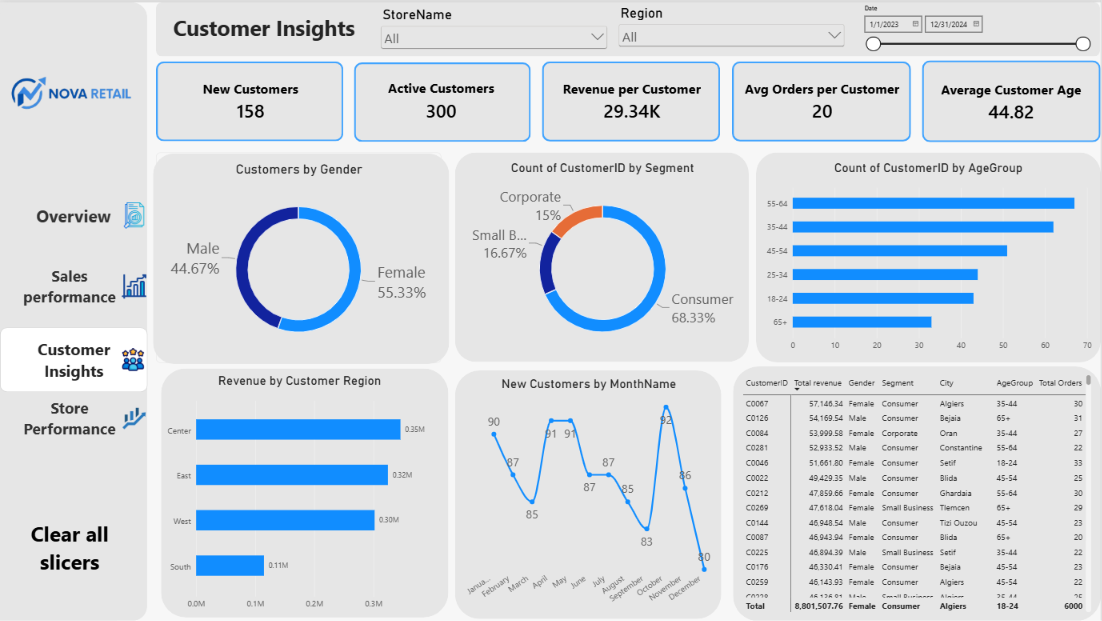

What the dashboard file says about the page in this screenshot:
{"tool":"powerbi","page":{"name":"Customer Insights","canvas":[1920,1080],"ordinal":2},"visuals":[{"type":"shape","box":[0,0,204.5,1079],"z":0,"group":"g1"},{"type":"group","id":"g1","title":"Group 3","box":[0,0,256.7,1081],"z":0},{"type":"shape","box":[1608.4,101.4,311.5,142.7],"z":0,"group":"g6"},{"type":"shape","box":[272.1,102.9,326.7,139.3],"z":0,"group":"g4"},{"type":"shape","box":[945.8,103.1,310.6,139.6],"z":0,"group":"g5"},{"type":"shape","box":[1277.1,103.1,312.2,139.6],"z":0,"group":"g3"},{"type":"shape","box":[617.8,103.8,308.4,138.6],"z":0,"group":"g7"},{"type":"shape","box":[794.2,262.2,512.5,365.7],"z":0,"group":"g8"},{"type":"shape","box":[1318.6,262.2,601.4,366.3],"z":0,"group":"g10"},{"type":"shape","box":[1278.1,635,641.9,444.5],"z":0,"group":"g9"},{"type":"shape","box":[0,0,256.7,1079],"z":500,"group":"g1"},{"type":"shape","box":[266,263.3,516.6,367.4],"z":500,"group":"g11"},{"type":"shape","box":[281.4,637.4,501.3,434.6],"z":500,"group":"g2"},{"type":"shape","box":[794.2,641,464.6,433.7],"z":500,"group":"g12"},{"type":"cardVisual","fields":{"Data":["_Measures.New Customers"]},"box":[273.8,102.9,326.4,139.6],"z":1000,"group":"g4"},{"type":"cardVisual","fields":{"Data":["_Measures.Active Customers"]},"box":[614,102.9,311.6,138.5],"z":1000,"group":"g7"},{"type":"cardVisual","fields":{"Data":["_Measures.Revenue per Customer"]},"box":[947.4,103.1,310.2,139.9],"z":1000,"group":"g5"},{"type":"cardVisual","fields":{"Data":["_Measures.Avg Orders per Customer"]},"box":[1278.7,103.1,311.9,139.9],"z":1000,"group":"g3"},{"type":"cardVisual","fields":{"Data":["Avg(Customers.Age)"]},"box":[1607.8,103.4,311.2,143.4],"z":1000,"group":"g6"},{"type":"clusteredBarChart","fields":{"Category":["Customers.AgeGroup"],"Y":["CountNonNull(Customers.CustomerID)"]},"box":[1318.6,262.2,601.4,366.3],"z":1000,"group":"g10"},{"type":"donutChart","fields":{"Category":["Customers.Segment"],"Y":["CountNonNull(Customers.CustomerID)"]},"box":[806.1,262.8,490.5,366.7],"z":1000,"group":"g8"},{"type":"clusteredBarChart","title":"Revenue by Customer Region","fields":{"Category":["Customers.Region"],"Y":["_Measures.Total revenue"]},"box":[271.8,632.3,501.4,445.3],"z":1000,"group":"g2"},{"type":"pivotTable","fields":{"Rows":["Customers.CustomerID"],"Values":["_Measures.Total revenue","Min(Customers.Gender)","Min(Customers.Segment)","Min(Customers.City)","Min(Customers.AgeGroup)","_Measures.Total Orders"]},"box":[1279.9,634.2,638.8,444.9],"z":1000,"group":"g9"},{"type":"lineChart","fields":{"Category":["Calendar.MonthName"],"Y":["_Measures.New Customers"]},"box":[798.2,638.1,460.6,441.4],"z":1000,"group":"g12"},{"type":"actionButton","box":[0,327.7,256.7,89.7],"z":2000},{"type":"actionButton","box":[0,567,257.5,112.9],"z":3000},{"type":"actionButton","box":[0,449.5,242.6,90.7],"z":4000},{"type":"actionButton","box":[0,680.2,242.6,90.7],"z":5000},{"type":"image","box":[211,702.9,45.3,45.3],"z":6000},{"type":"image","box":[210.1,600.8,45.3,45.3],"z":7000},{"type":"image","box":[211,472.7,45.3,45.3],"z":8000},{"type":"actionButton","box":[4.5,874.2,232.7,153.6],"z":9000},{"type":"group","id":"g2","title":"Group 5","box":[271.8,632.3,510.8,445.3],"z":10000},{"type":"group","id":"g3","title":"Group 1","box":[1277.1,103.1,312.2,139.5],"z":11000},{"type":"group","id":"g4","title":"Group 1","box":[272.1,102.9,327.9,139.5],"z":12000},{"type":"group","id":"g5","title":"Group 1","box":[945.8,103.1,312.2,139.5],"z":13000},{"type":"group","id":"g6","title":"Group 1","box":[1607.8,101.4,312.2,144.8],"z":14000},{"type":"donutChart","title":"Customers by Gender","fields":{"Category":["Customers.Gender"],"Y":["CountNonNull(Customers.CustomerID)"]},"box":[271.4,262.2,497.4,367.3],"z":14000,"group":"g11"},{"type":"group","id":"g7","title":"Group 1","box":[614,102.9,312.2,139.5],"z":15000},{"type":"shape","box":[272.1,0,1646.5,94.2],"z":16000},{"type":"slicer","fields":{"Values":["Calendar.Date"]},"box":[1500.3,3.6,405.3,93.7],"z":17000},{"type":"slicer","fields":{"Values":["Stores.Region"]},"box":[1075.3,3.6,403.5,93.7],"z":18000},{"type":"slicer","fields":{"Values":["Stores.StoreName"]},"box":[659.2,7.2,405.3,86.5],"z":19000},{"type":"textbox","box":[272.1,19.2,376.7,62.8],"z":20000},{"type":"group","id":"g8","title":"Group 2","box":[794.2,262.2,512.8,366.3],"z":21000},{"type":"group","id":"g9","title":"Group 4","box":[1278.1,634.2,641.9,445.3],"z":22000},{"type":"group","id":"g10","title":"Group 4","box":[1318.6,262.2,601.4,366.3],"z":23000},{"type":"group","id":"g11","title":"Group 2","box":[266,262.2,516.6,366.3],"z":24000},{"type":"group","id":"g12","title":"Group 5","box":[794.2,638.1,464.6,441.4],"z":25000},{"type":"image","box":[204.1,348.8,59.3,45.3],"z":26000},{"type":"image","box":[0,46.8,248.6,221.5],"z":26001}]}

Visuals, with their boxes on the page's 1920x1080 design canvas (x1, y1, x2, y2). These are canvas units, not pixel positions in the 1102x621 screenshot, which may show the page scaled, cropped or inside an application window:
shape: locate(0, 0, 204, 1079)
"Group 3" group: locate(0, 0, 257, 1081)
shape: locate(1608, 101, 1920, 244)
shape: locate(272, 103, 599, 242)
shape: locate(946, 103, 1256, 243)
shape: locate(1277, 103, 1589, 243)
shape: locate(618, 104, 926, 242)
shape: locate(794, 262, 1307, 628)
shape: locate(1319, 262, 1920, 628)
shape: locate(1278, 635, 1920, 1080)
shape: locate(0, 0, 257, 1079)
shape: locate(266, 263, 783, 631)
shape: locate(281, 637, 783, 1072)
shape: locate(794, 641, 1259, 1075)
cardVisual - _Measures.New Customers: locate(274, 103, 600, 242)
cardVisual - _Measures.Active Customers: locate(614, 103, 926, 241)
cardVisual - _Measures.Revenue per Customer: locate(947, 103, 1258, 243)
cardVisual - _Measures.Avg Orders per Customer: locate(1279, 103, 1591, 243)
cardVisual - Avg(Customers.Age): locate(1608, 103, 1919, 247)
clusteredBarChart - Customers.AgeGroup x CountNonNull(Customers.CustomerID): locate(1319, 262, 1920, 628)
donutChart - Customers.Segment x CountNonNull(Customers.CustomerID): locate(806, 263, 1297, 630)
"Revenue by Customer Region" clusteredBarChart: locate(272, 632, 773, 1078)
pivotTable - Customers.CustomerID x _Measures.Total revenue: locate(1280, 634, 1919, 1079)
lineChart - Calendar.MonthName x _Measures.New Customers: locate(798, 638, 1259, 1080)
actionButton: locate(0, 328, 257, 417)
actionButton: locate(0, 567, 258, 680)
actionButton: locate(0, 450, 243, 540)
actionButton: locate(0, 680, 243, 771)
image: locate(211, 703, 256, 748)
image: locate(210, 601, 255, 646)
image: locate(211, 473, 256, 518)
actionButton: locate(4, 874, 237, 1028)
"Group 5" group: locate(272, 632, 783, 1078)
"Group 1" group: locate(1277, 103, 1589, 243)
"Group 1" group: locate(272, 103, 600, 242)
"Group 1" group: locate(946, 103, 1258, 243)
"Group 1" group: locate(1608, 101, 1920, 246)
"Customers by Gender" donutChart: locate(271, 262, 769, 630)
"Group 1" group: locate(614, 103, 926, 242)
shape: locate(272, 0, 1919, 94)
slicer - Calendar.Date: locate(1500, 4, 1906, 97)
slicer - Stores.Region: locate(1075, 4, 1479, 97)
slicer - Stores.StoreName: locate(659, 7, 1064, 94)
textbox: locate(272, 19, 649, 82)
"Group 2" group: locate(794, 262, 1307, 628)
"Group 4" group: locate(1278, 634, 1920, 1080)
"Group 4" group: locate(1319, 262, 1920, 628)
"Group 2" group: locate(266, 262, 783, 628)
"Group 5" group: locate(794, 638, 1259, 1080)
image: locate(204, 349, 263, 394)
image: locate(0, 47, 249, 268)
